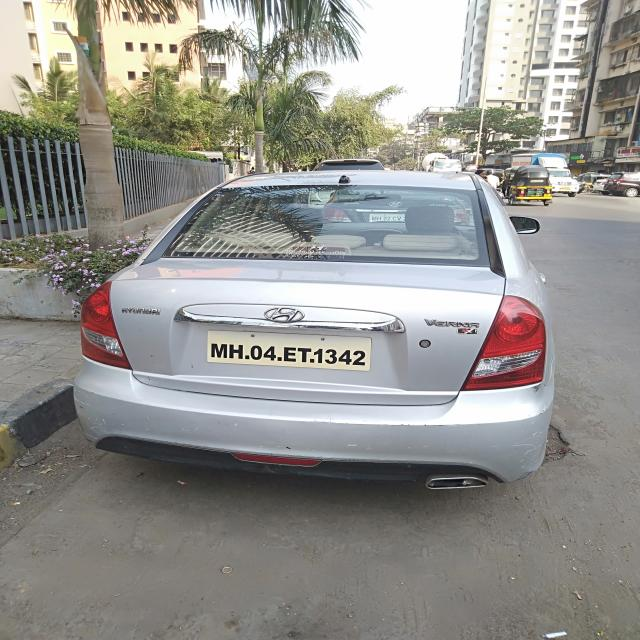Number-Plate: (205, 332, 375, 371)
